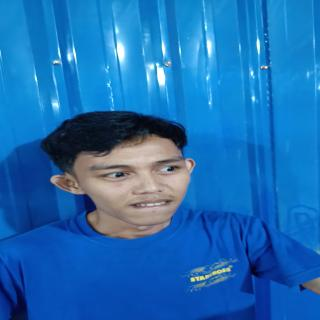Marah: (78, 131, 203, 229)
